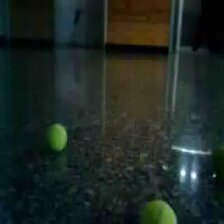tennis: (138, 200, 177, 224), (46, 123, 69, 153)
